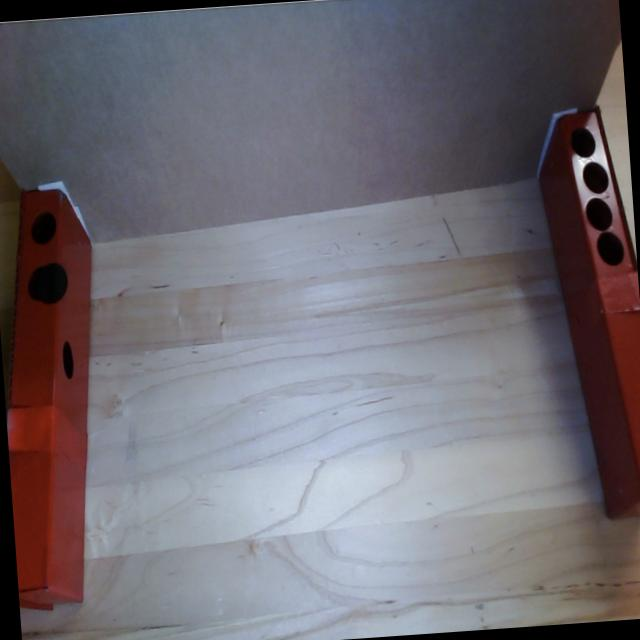Hole: (28, 205, 58, 248), (594, 229, 626, 267), (580, 157, 611, 196), (584, 196, 612, 232), (569, 124, 596, 158), (26, 266, 51, 300), (59, 336, 76, 381)
Sticker: (35, 259, 70, 306)
